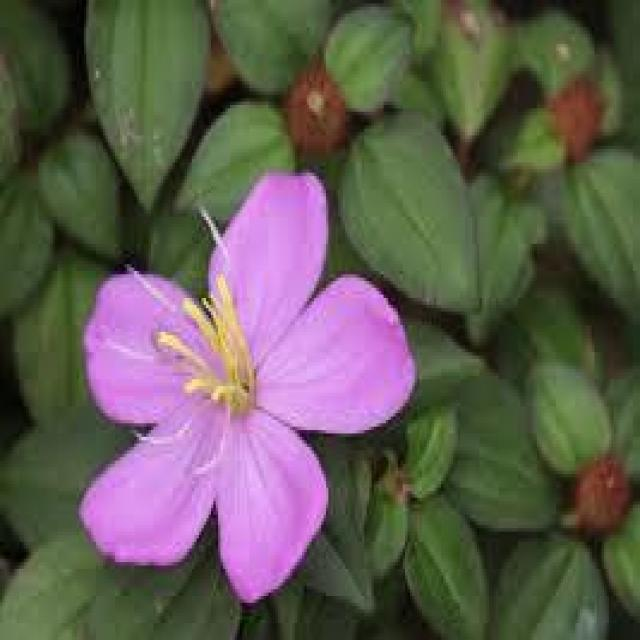organic waste: (72, 164, 422, 601)
